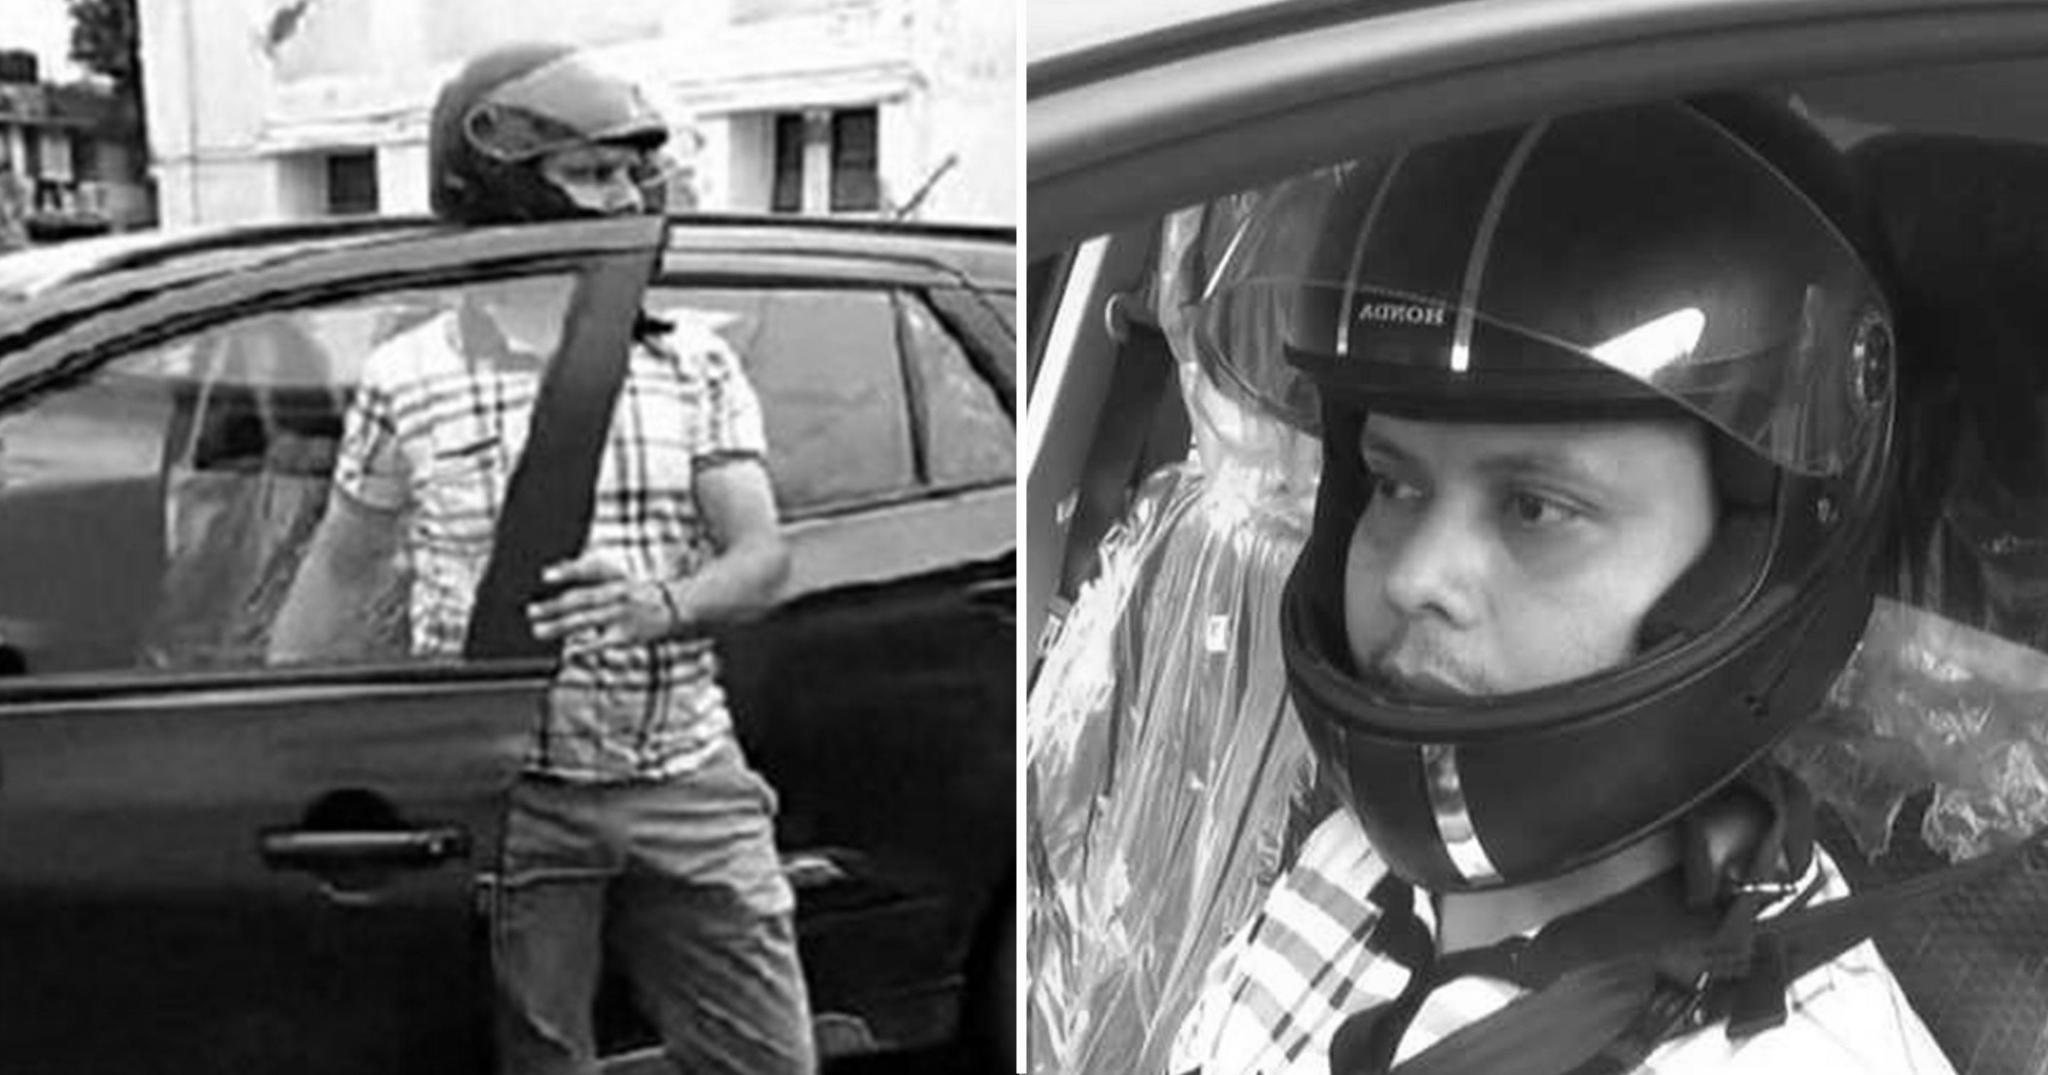Helmet: (1181, 89, 1904, 896)
